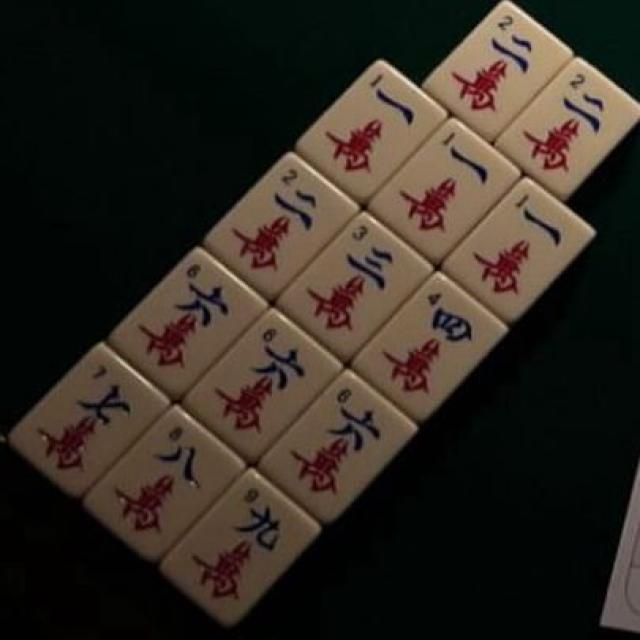1C: (367, 112, 520, 263), (442, 173, 594, 324), (301, 55, 446, 200)
2C: (206, 146, 363, 298), (500, 56, 636, 201), (431, 1, 556, 140)
3C: (276, 208, 438, 366)
4C: (352, 266, 510, 426)
6C: (178, 303, 344, 467), (178, 303, 344, 467), (257, 364, 422, 528), (257, 364, 422, 528), (114, 241, 274, 398), (114, 241, 274, 398)
7C: (29, 358, 136, 476)
8C: (81, 397, 249, 560)
9C: (158, 462, 318, 634)
